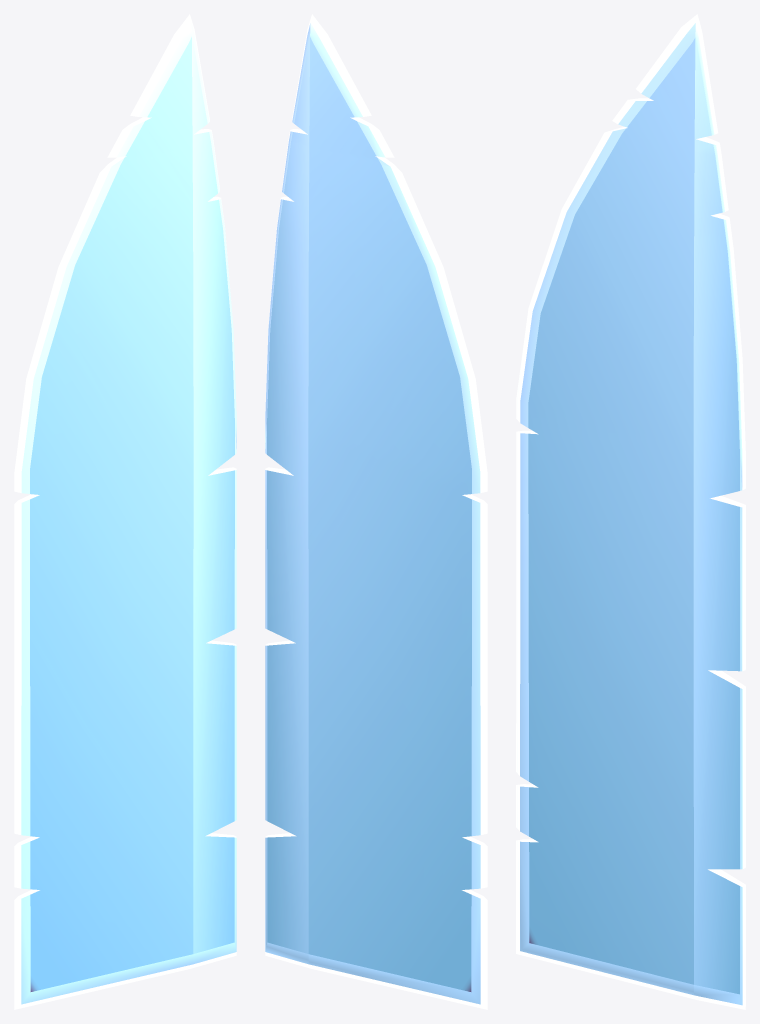
Rendered from steel_blade_scratched_055.glb.
3 views of the same model, side by side, from view 1: azimuth 30°, elevation 25°; view 2: azimuth 150°, elevation 25°; view 3: azimuth 330°, elevation 25° (orthographic). The views are drawn at different scales.
Parts seen in each view (by area): view 1: steel_blade_scratched.055; view 2: steel_blade_scratched.055; view 3: steel_blade_scratched.055.
Part boxes in pixels (bbox=[...]): steel_blade_scratched.055: bbox=[14, 14, 236, 1009]; steel_blade_scratched.055: bbox=[265, 14, 487, 1009]; steel_blade_scratched.055: bbox=[516, 14, 745, 1009].
Size of the model in its own units: 2.79 by 11.43 by 0.1594.
1 material, 1 textured.
